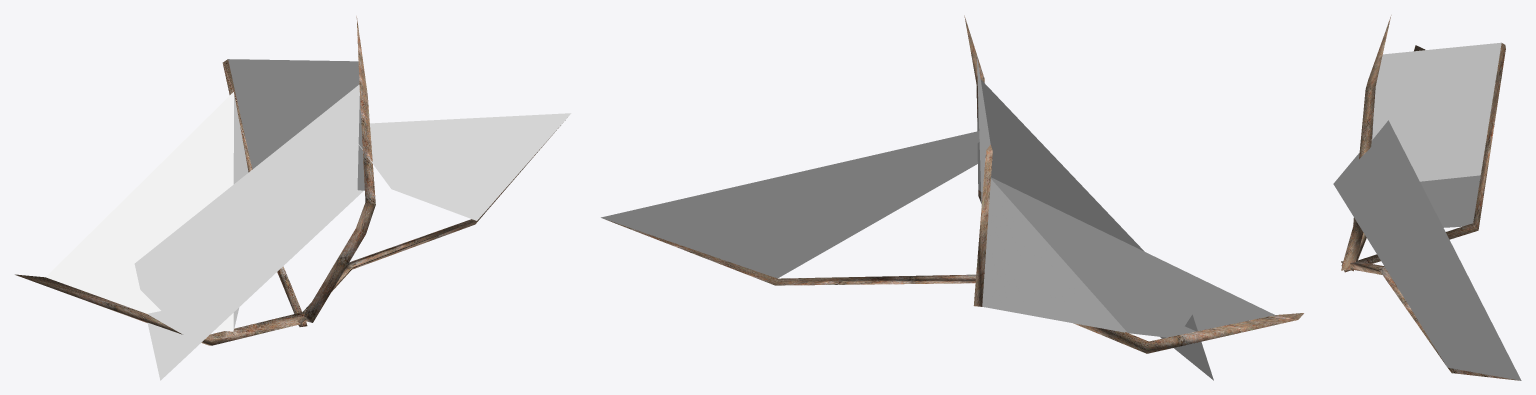
Rendered from poi_lair_web_s01_l0.fbx.
The picture shows the model from 3 angles, left to right: view 1: azimuth 30°, elevation 25°; view 2: azimuth 150°, elevation 25°; view 3: azimuth 270°, elevation 25°; orthographic projection. The views are drawn at different scales.
Visible parts, largest first — view 1: mesh_node; view 2: mesh_node; view 3: mesh_node.
Part boxes in pixels (x1,y1,x2,y2): mesh_node: [15, 16, 571, 380]; mesh_node: [601, 15, 1303, 380]; mesh_node: [1333, 15, 1521, 380].
Size of the model in its own units: 1.83 by 0.8729 by 0.4665.
